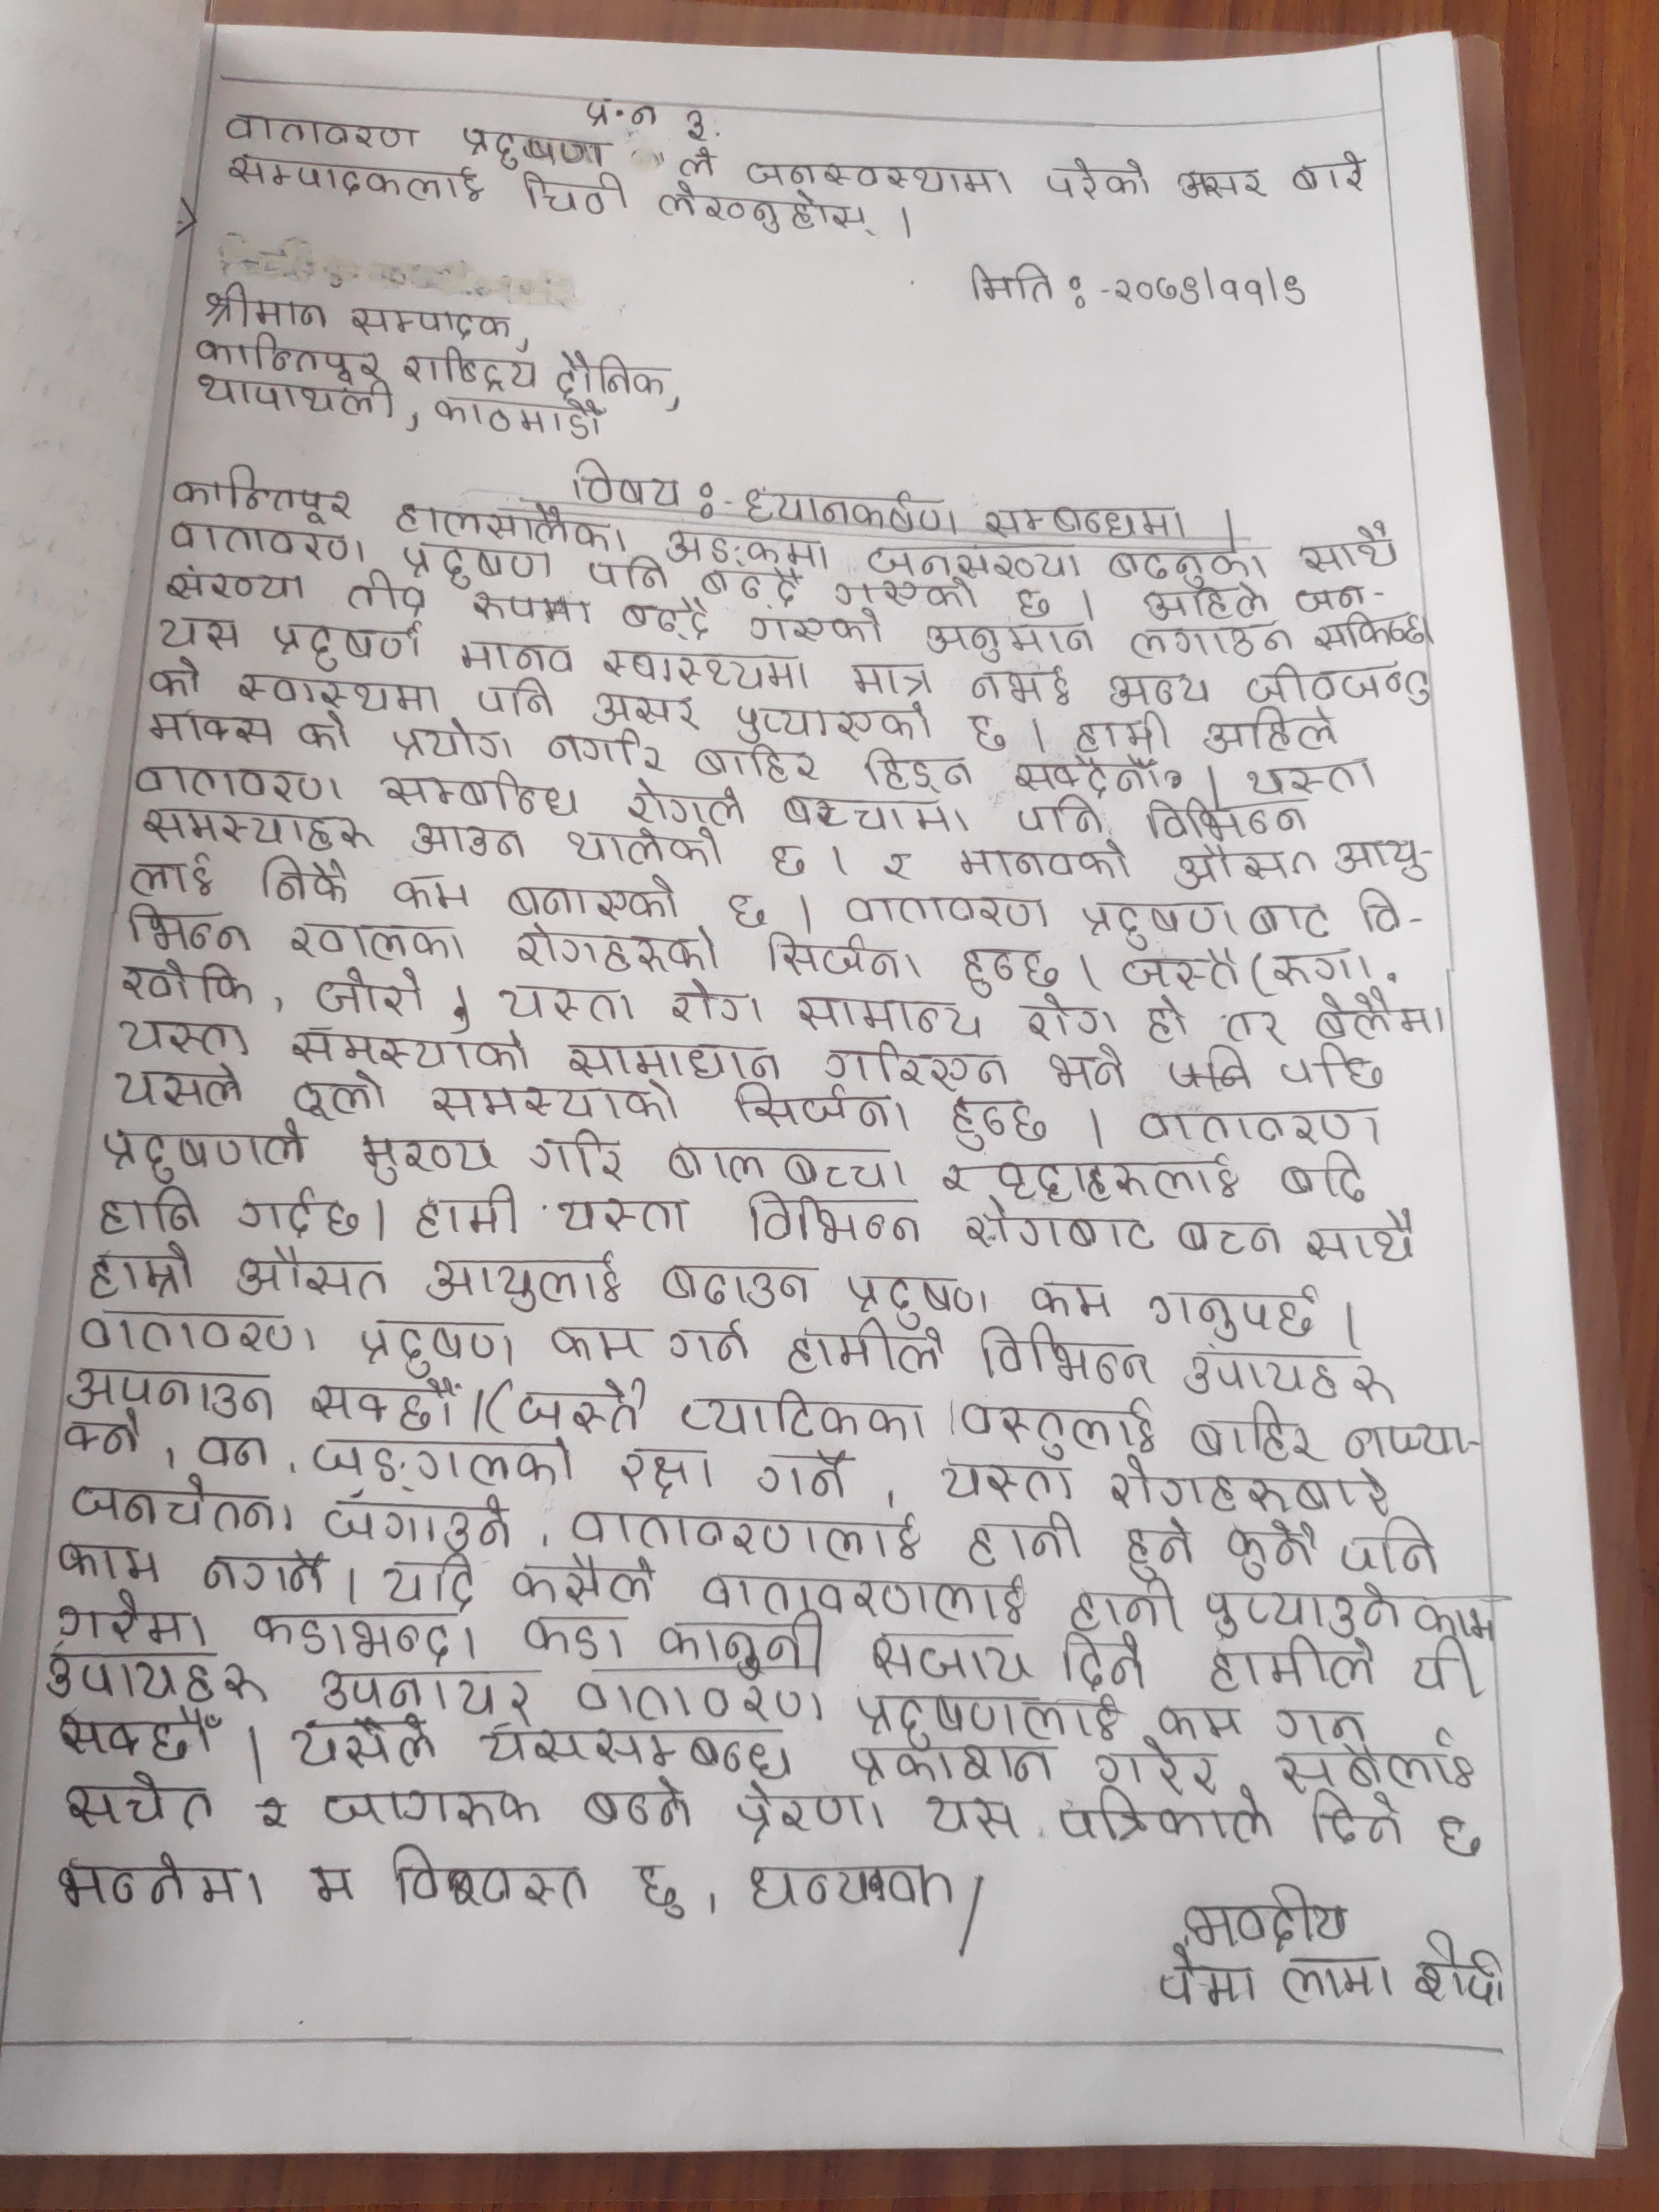text: (690, 1566, 1040, 1634), (469, 1719, 800, 1787), (1101, 1454, 1399, 1524), (559, 1510, 934, 1562), (671, 1374, 932, 1446), (378, 1841, 591, 1921), (840, 1683, 1124, 1740), (58, 1472, 296, 1540), (47, 1848, 279, 1918), (307, 1433, 587, 1491), (561, 1662, 824, 1723), (1049, 1784, 1279, 1853), (1072, 890, 1344, 948), (387, 496, 633, 559), (657, 1130, 910, 1191), (75, 1299, 319, 1360), (735, 150, 1014, 202), (427, 1071, 687, 1127), (246, 1601, 476, 1663), (101, 1116, 315, 1183), (1175, 1879, 1363, 1954), (37, 1648, 272, 1707), (992, 1153, 1239, 1209), (953, 1390, 1159, 1456), (1262, 1735, 1473, 1799), (307, 1665, 535, 1724), (289, 1024, 532, 1080), (416, 1247, 626, 1312), (221, 152, 486, 202), (347, 1301, 519, 1378), (647, 1602, 831, 1674), (373, 759, 584, 820), (500, 918, 723, 975), (598, 639, 814, 698), (720, 1775, 890, 1850), (136, 801, 371, 855), (742, 1855, 957, 1914), (655, 176, 875, 233), (166, 462, 361, 526), (312, 1787, 542, 1841), (1185, 1346, 1394, 1406), (721, 1075, 915, 1137), (1127, 1103, 1385, 1150), (741, 486, 964, 540), (732, 1190, 929, 1251), (1201, 1580, 1403, 1639), (61, 1366, 282, 1420), (321, 1489, 514, 1550), (727, 695, 938, 751), (47, 1773, 220, 1841), (830, 1740, 1075, 1787), (1143, 1278, 1317, 1345), (857, 1622, 1030, 1688), (1114, 261, 1309, 319), (1199, 1637, 1382, 1698), (162, 517, 368, 571), (835, 880, 1054, 930), (558, 1035, 782, 1083), (772, 784, 974, 838), (230, 669, 444, 719), (957, 1209, 1162, 1261), (192, 371, 404, 421), (430, 388, 606, 449), (1241, 658, 1443, 711), (132, 756, 349, 805), (755, 925, 922, 988), (965, 1327, 1154, 1383), (186, 331, 387, 383), (857, 536, 1087, 582), (782, 1320, 951, 1381), (819, 1038, 1009, 1092), (282, 1709, 441, 1773), (45, 1590, 218, 1649), (976, 500, 1192, 547), (511, 1366, 652, 1437), (307, 1371, 467, 1433), (650, 1252, 819, 1312), (44, 1707, 221, 1763), (228, 1240, 389, 1301), (218, 110, 425, 157), (1406, 1921, 1513, 2012), (788, 991, 985, 1040), (662, 517, 840, 571), (509, 871, 683, 925), (561, 819, 728, 874), (265, 615, 425, 672), (347, 1129, 502, 1188), (1173, 1402, 1323, 1463), (289, 914, 467, 965), (950, 838, 1140, 885), (1133, 792, 1314, 841), (836, 1268, 985, 1327), (505, 1554, 660, 1609), (918, 617, 1101, 664), (931, 1453, 1079, 1510), (347, 294, 519, 343), (399, 542, 561, 592), (124, 900, 261, 960), (228, 1183, 361, 1244), (1065, 1576, 1188, 1641), (1096, 540, 1279, 583), (115, 958, 261, 1012), (551, 1186, 697, 1240), (549, 341, 678, 402), (958, 1510, 1091, 1569), (162, 559, 310, 611), (455, 122, 612, 171), (1298, 1207, 1424, 1268), (199, 275, 331, 333), (575, 1773, 702, 1832), (1305, 991, 1445, 1045), (195, 1547, 335, 1601), (1298, 1789, 1412, 1855), (396, 341, 538, 394), (1168, 841, 1319, 890), (748, 1440, 859, 1507), (688, 738, 824, 792), (1269, 1954, 1396, 2012), (1328, 824, 1438, 890), (938, 1090, 1053, 1153), (1119, 622, 1298, 662), (558, 455, 685, 510), (1009, 754, 1171, 798), (746, 601, 890, 650), (493, 979, 638, 1028), (310, 961, 429, 1021), (1119, 944, 1244, 1000), (113, 1012, 256, 1061), (371, 1547, 479, 1611), (1202, 705, 1340, 756), (1049, 1627, 1148, 1696), (47, 1536, 171, 1592), (1091, 1749, 1227, 1799), (924, 1778, 1025, 1846), (112, 1059, 246, 1109), (856, 740, 976, 796), (1220, 1514, 1321, 1580), (622, 775, 749, 827), (1243, 752, 1384, 799), (141, 700, 275, 749), (85, 1244, 202, 1299), (545, 1308, 655, 1367), (523, 1125, 634, 1183), (406, 1184, 525, 1238), (540, 726, 671, 775), (92, 1183, 202, 1240), (1140, 575, 1272, 622), (1338, 1517, 1438, 1580), (1039, 152, 1157, 204), (380, 718, 521, 761), (659, 975, 769, 1031), (460, 582, 598, 625), (511, 167, 629, 218), (256, 852, 357, 911), (1405, 1588, 1506, 1648), (514, 1615, 636, 1663), (1262, 1702, 1384, 1750), (1018, 1271, 1121, 1329), (1148, 1965, 1269, 2013), (282, 1069, 390, 1123), (1310, 611, 1434, 658), (835, 573, 979, 613), (1297, 519, 1406, 571), (408, 813, 530, 860), (953, 946, 1066, 996), (606, 1444, 720, 1494), (1070, 707, 1178, 759), (697, 556, 805, 606), (1340, 1421, 1469, 1463), (1173, 1212, 1283, 1261), (1274, 1047, 1387, 1094), (451, 636, 579, 678), (1115, 1517, 1197, 1581), (1274, 1153, 1371, 1207), (582, 688, 702, 732), (840, 653, 943, 704), (659, 1310, 758, 1362), (1270, 944, 1377, 993), (964, 662, 1073, 709), (1018, 993, 1122, 1042), (1150, 1698, 1258, 1745), (617, 590, 716, 641), (129, 846, 220, 900), (471, 671, 558, 726), (1101, 671, 1216, 712), (1014, 791, 1112, 840), (626, 1853, 694, 1921), (962, 261, 1058, 308), (188, 1430, 277, 1480), (1288, 148, 1373, 200), (1040, 1042, 1127, 1092), (1403, 1641, 1478, 1696), (155, 611, 246, 655), (1168, 165, 1274, 202), (51, 1416, 143, 1458), (1427, 1811, 1493, 1869), (347, 570, 430, 615), (584, 549, 671, 590), (1215, 1000, 1288, 1049), (389, 873, 477, 913), (579, 92, 666, 132), (298, 1858, 361, 1911), (1286, 580, 1378, 613), (1354, 883, 1410, 934), (1140, 993, 1190, 1049), (965, 709, 1018, 761), (301, 711, 361, 754), (247, 1787, 291, 1843), (152, 655, 202, 700), (721, 883, 772, 928), (758, 841, 814, 878), (673, 143, 723, 181), (936, 1153, 971, 1202), (1011, 587, 1060, 620), (880, 850, 913, 885)
